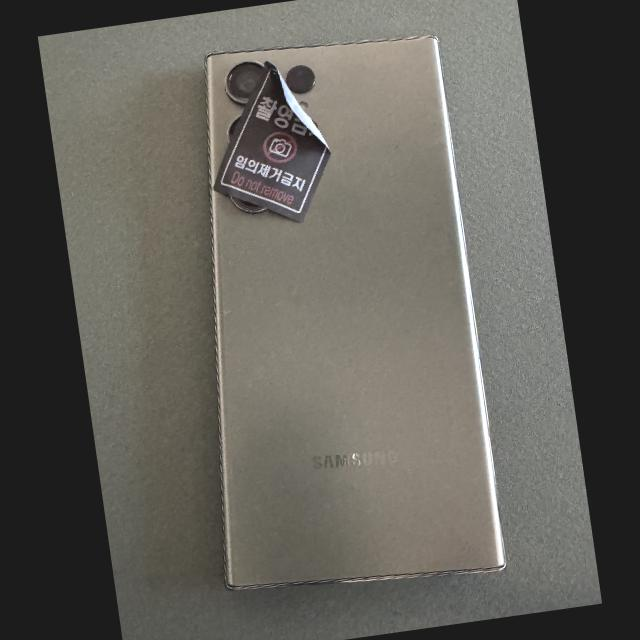lens: (226, 60, 263, 102), (286, 65, 315, 93), (232, 195, 263, 211), (229, 120, 237, 142)
sticker: (214, 61, 331, 223)
